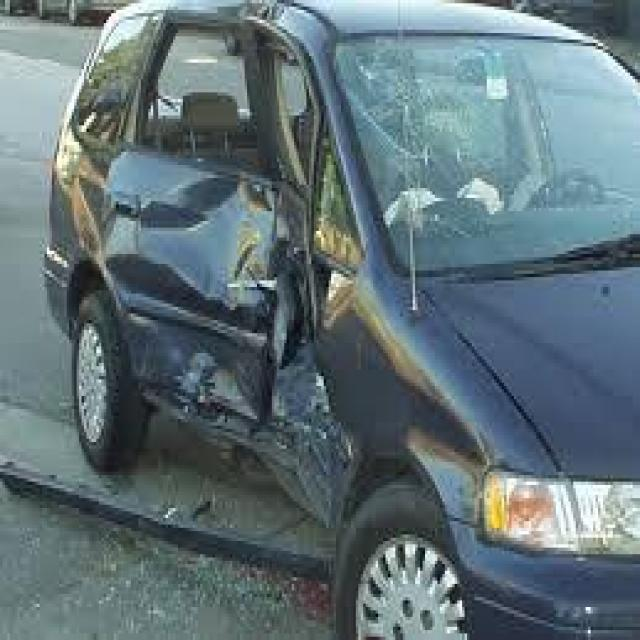damaged: (96, 142, 354, 524)
